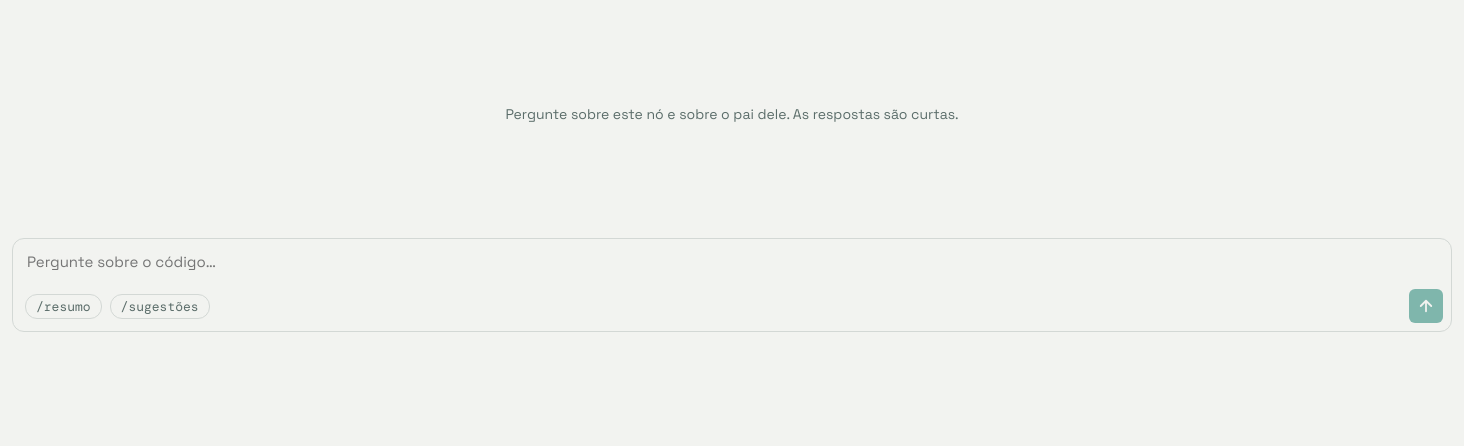
ChatTab › sends the text turns of the conversation as the past of the next question
The image size is (1464, 446).
Type "P1" into the text box at {"x": 732, "y": 261}, box [13,239,1451,283]
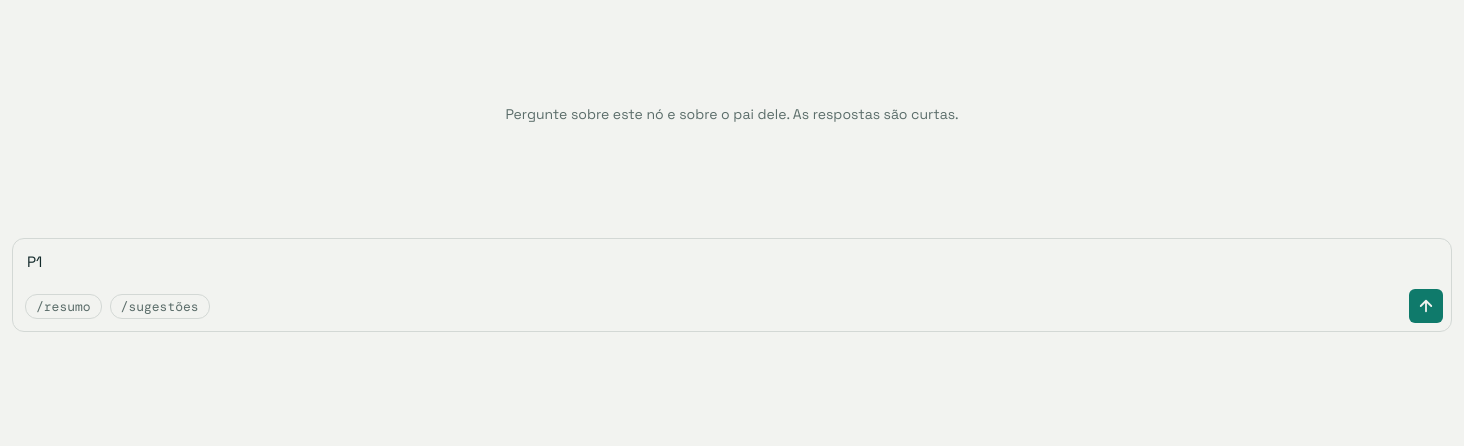
Click the button named "Enviar" at {"x": 1426, "y": 306}, box [1409,289,1443,323]
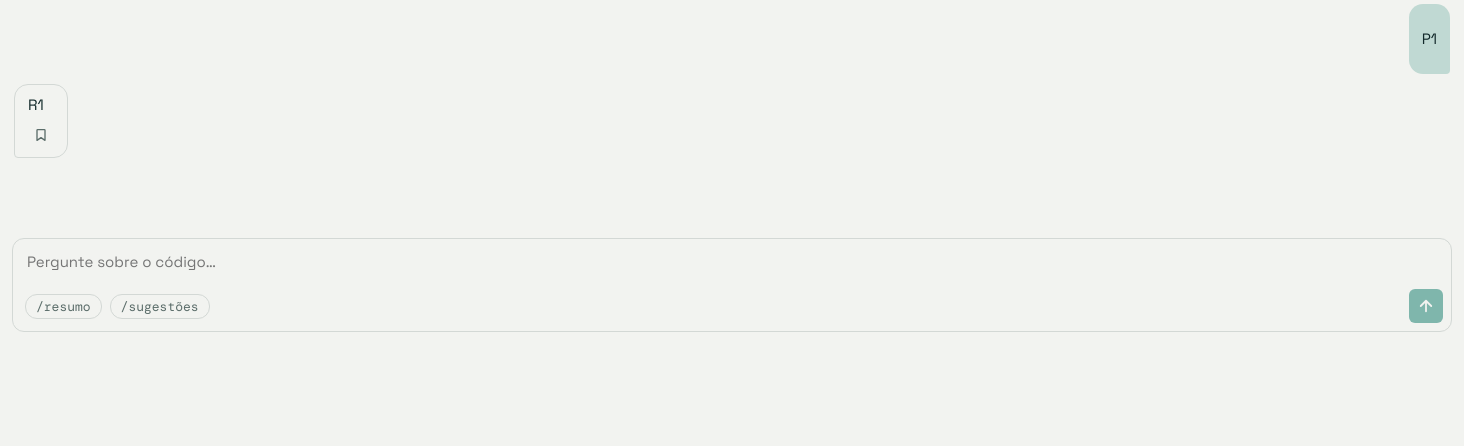
Now the text "R1" is shown, box [28,95,44,114]
Type "P2" into the text box at {"x": 732, "y": 261}, box [13,239,1451,283]
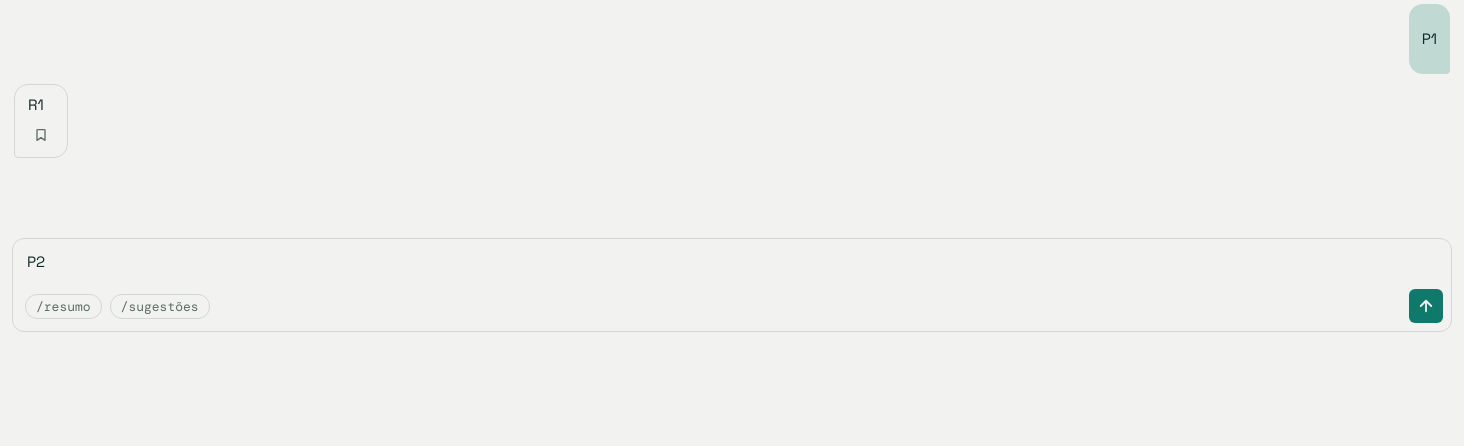
Click the button named "Enviar" at {"x": 1426, "y": 306}, box [1409,289,1443,323]
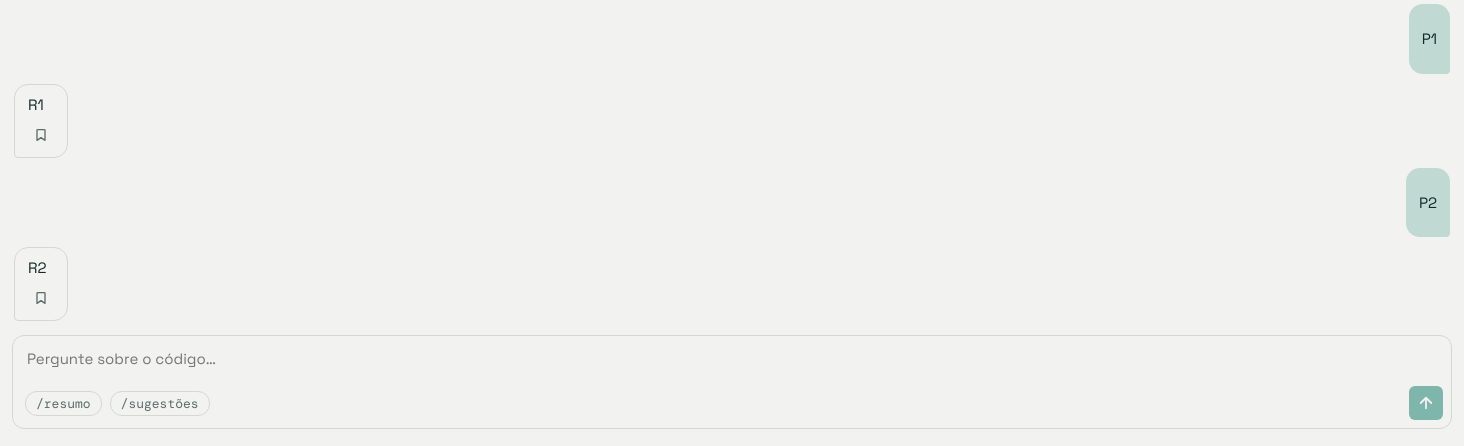
Now the text "R2" is shown, box [28,258,46,277]
